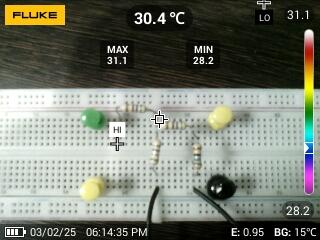resistor: (118, 100, 150, 116), (147, 138, 163, 169), (190, 141, 204, 174), (159, 120, 189, 133)
